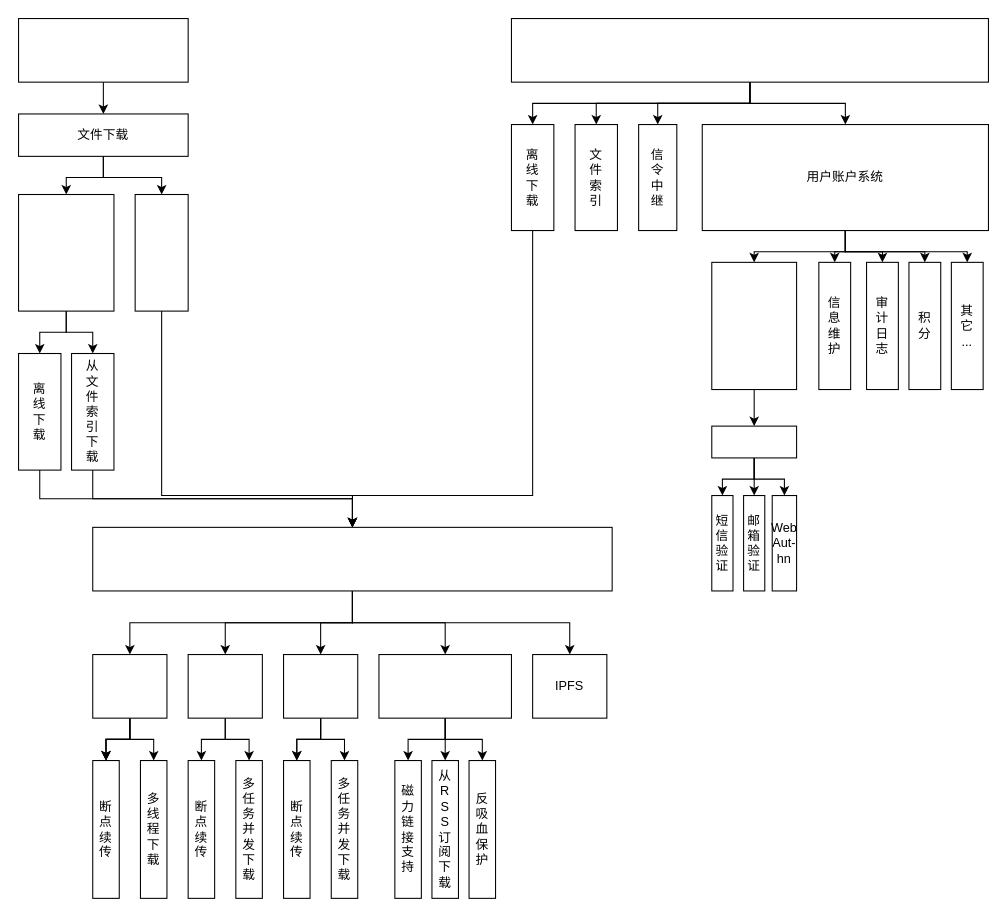
Some shapes in this 1007 by 917 pixel diagram are drawn without their labels. Here are the shapes that lost their labels. From the top down, the centre of each, then its label:
the point at 102,49: 客户端
the point at 749,49: 服务端
the point at 65,252: 基 于 云 的 下 载
the point at 161,252: 本 地 下 载
the point at 754,325: 鉴 权 (登录注册)
the point at 754,441: 安全验证
the point at 352,558: 统一文件下载引擎
the point at 129,685: HTTP / WebDAV
the point at 224,685: FTP
the point at 320,685: SFTP
the point at 444,685: BitTorrent
